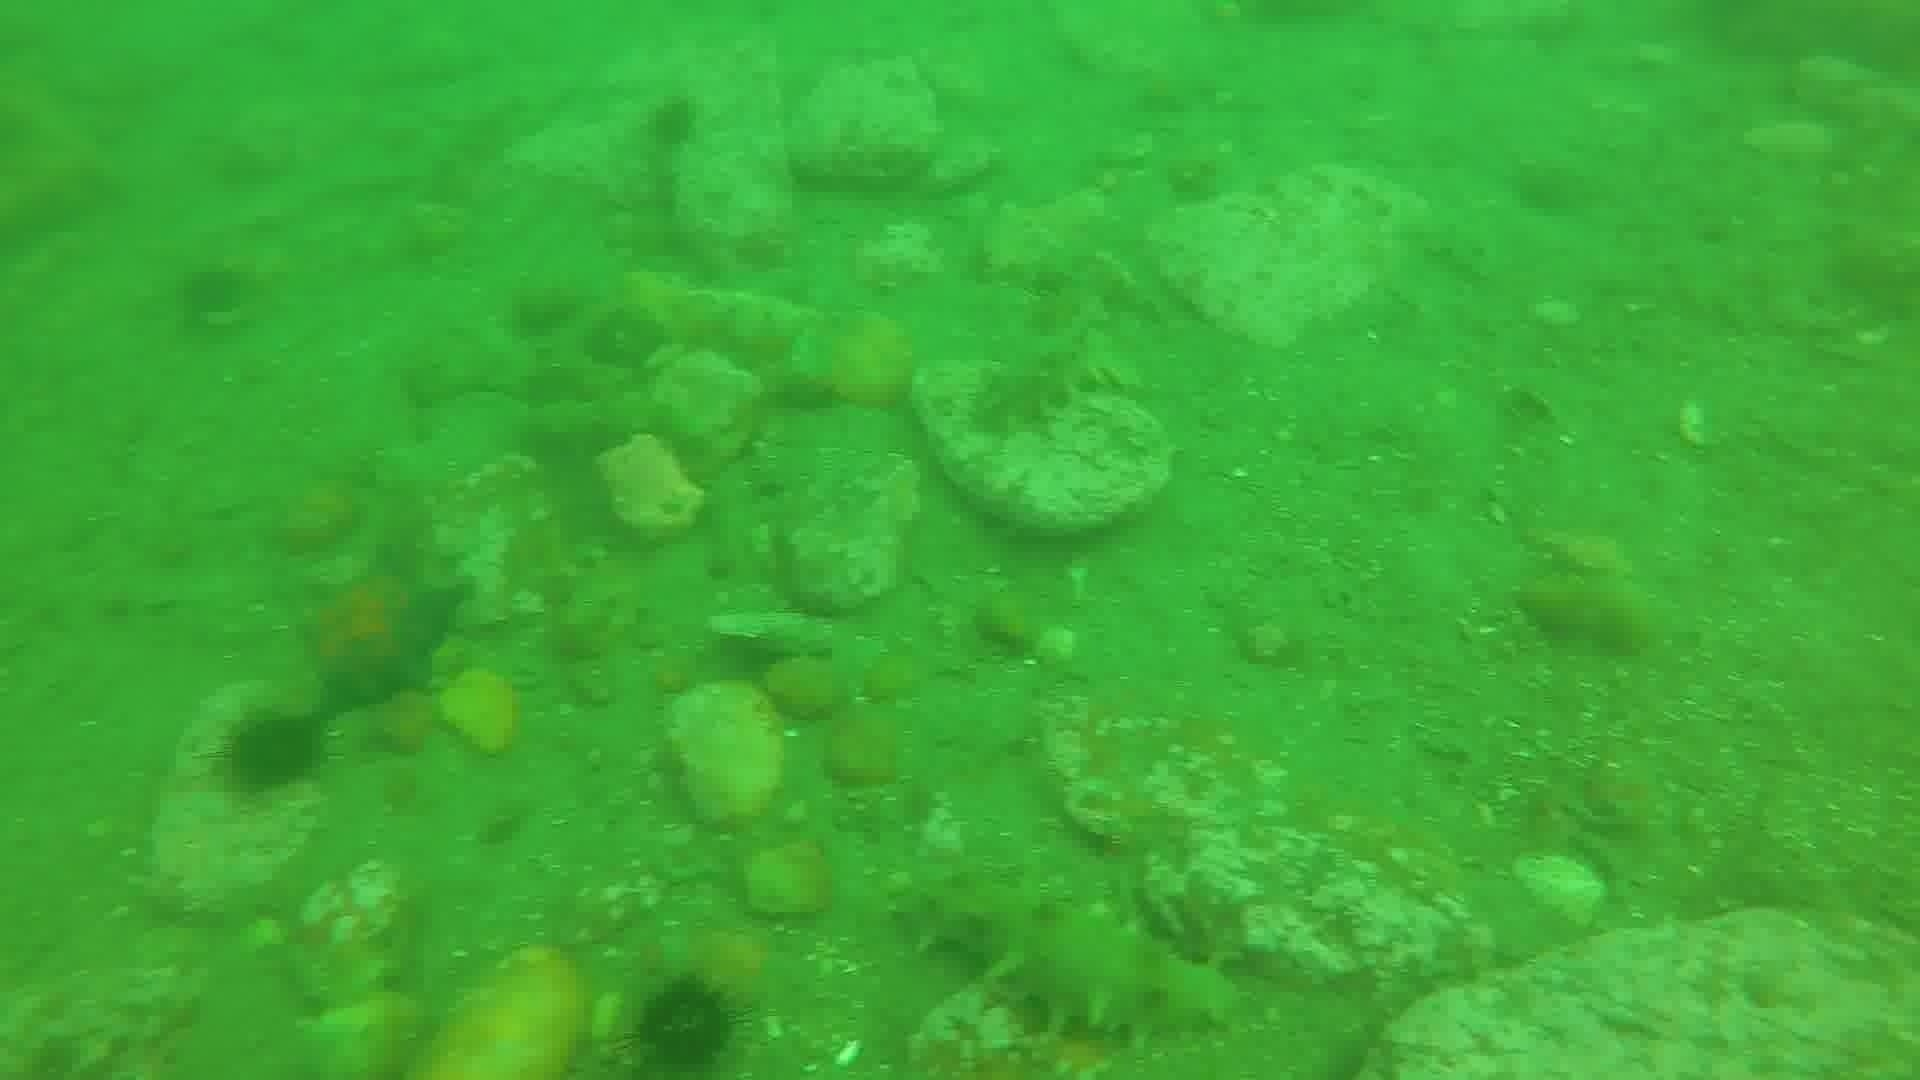echinus: (626, 975, 742, 1072), (214, 707, 330, 800), (171, 258, 257, 334), (638, 90, 705, 156)
holothurian: (891, 866, 1241, 1050), (965, 262, 1134, 440)
starfish: (293, 547, 469, 716)
